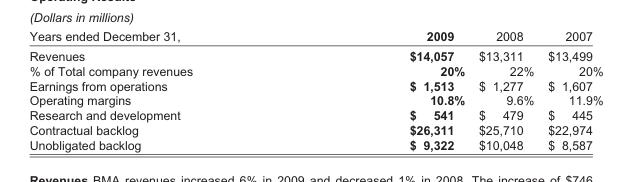table: (28, 28, 602, 151)
table column: (28, 28, 300, 151), (300, 28, 471, 151), (471, 28, 540, 151), (540, 28, 602, 151)
table column header: (28, 28, 602, 45)
table row: (28, 28, 602, 45), (28, 45, 602, 62), (28, 62, 602, 77), (28, 77, 602, 92), (28, 92, 602, 107), (28, 107, 602, 122), (28, 136, 602, 151), (28, 122, 602, 136)
